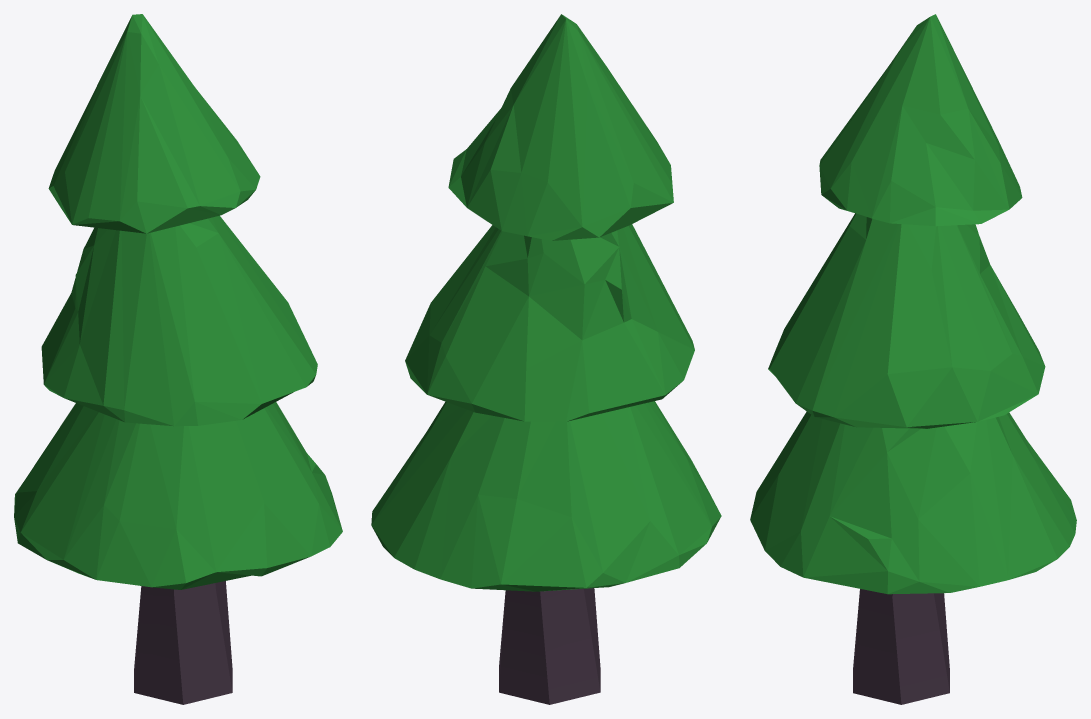
Rendered from pine.glb.
3 renders of one model, left to right at view 1: azimuth 30°, elevation 25°; view 2: azimuth 150°, elevation 25°; view 3: azimuth 270°, elevation 25°, orthographic. The views are drawn at different scales.
Visible parts, largest first — view 1: pCylinder12; view 2: pCylinder12; view 3: pCylinder12.
Boxes of the visible parts, x1,y1,x2,y2 form: pCylinder12: [14, 14, 342, 704]; pCylinder12: [371, 14, 721, 704]; pCylinder12: [750, 14, 1076, 704].
Bounding box in the file's own units: 0.0792 × 0.1745 × 0.0792.
